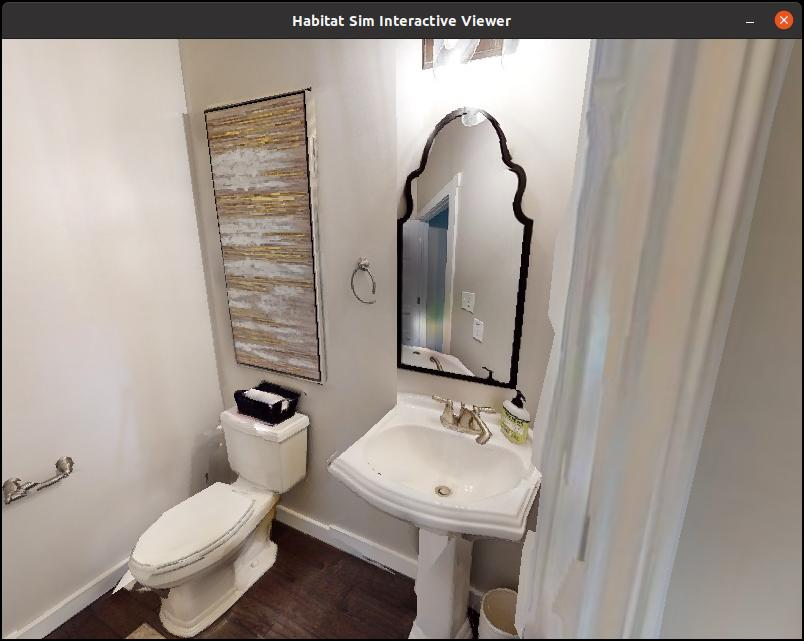sink: (332, 378, 544, 628)
toilet: (115, 374, 330, 632)
